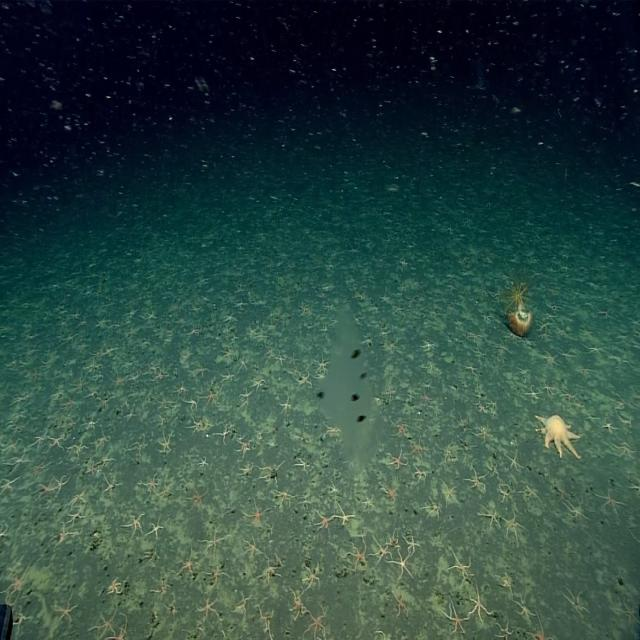brittle-stars: (443, 596, 470, 635), (469, 583, 490, 627), (202, 524, 228, 554), (6, 564, 30, 596), (91, 608, 118, 636), (305, 606, 327, 640), (448, 552, 474, 580), (54, 592, 76, 624), (343, 540, 367, 569), (186, 484, 208, 514), (391, 548, 413, 577), (563, 587, 587, 613), (596, 488, 621, 512), (257, 462, 282, 485), (243, 502, 266, 526), (179, 548, 198, 576), (503, 511, 522, 539), (196, 596, 219, 619), (372, 536, 392, 562), (302, 562, 321, 589), (206, 562, 227, 586), (258, 560, 282, 581), (333, 502, 354, 526), (289, 588, 305, 618), (440, 480, 460, 504), (392, 590, 409, 618), (465, 468, 486, 490), (380, 475, 399, 499), (52, 472, 70, 497), (7, 450, 27, 472), (479, 507, 501, 527), (242, 535, 261, 558), (408, 436, 427, 459), (103, 471, 120, 496), (125, 512, 144, 534), (388, 448, 407, 470), (516, 598, 535, 620), (563, 500, 585, 519), (403, 531, 419, 556), (274, 489, 295, 508), (0, 474, 19, 494), (504, 450, 522, 471), (424, 498, 441, 520), (614, 442, 636, 459), (69, 438, 89, 456), (94, 431, 112, 451), (473, 424, 493, 442), (69, 489, 86, 510), (144, 473, 160, 495), (496, 618, 512, 640), (540, 379, 558, 398), (158, 432, 173, 454), (2, 436, 20, 454), (492, 338, 510, 356), (314, 511, 331, 530), (499, 572, 513, 595), (149, 516, 163, 538), (295, 456, 312, 474), (49, 432, 64, 452), (108, 574, 122, 595), (456, 412, 470, 433), (71, 374, 88, 391), (523, 484, 540, 501), (324, 422, 340, 440), (33, 429, 48, 448), (236, 438, 251, 457), (193, 359, 208, 378), (439, 441, 453, 461), (280, 390, 291, 415), (102, 341, 119, 357), (412, 465, 428, 482), (585, 342, 603, 357), (111, 370, 125, 389), (215, 425, 230, 442), (466, 329, 483, 344), (603, 416, 617, 434), (316, 355, 330, 373), (558, 347, 574, 362), (67, 508, 84, 522), (204, 389, 218, 406), (524, 384, 538, 401), (395, 420, 407, 439), (558, 486, 572, 502), (560, 388, 576, 402), (362, 491, 375, 508), (222, 309, 236, 324), (296, 371, 310, 386), (85, 416, 99, 430), (186, 396, 200, 410), (221, 368, 235, 382), (544, 350, 558, 364), (421, 338, 435, 352), (63, 396, 76, 411), (240, 387, 253, 402), (246, 322, 258, 338), (252, 378, 266, 391), (86, 460, 98, 475), (154, 367, 166, 382), (475, 401, 487, 416), (387, 339, 399, 354), (421, 388, 432, 404), (239, 354, 249, 371), (232, 297, 246, 309), (274, 352, 286, 366), (287, 352, 299, 366), (464, 362, 477, 374), (486, 398, 499, 410), (198, 454, 209, 468), (147, 308, 158, 322), (221, 348, 232, 362), (394, 302, 404, 316), (300, 305, 312, 316), (188, 326, 200, 337), (353, 290, 366, 300), (488, 408, 499, 419), (380, 328, 391, 339), (380, 292, 390, 304), (323, 301, 333, 313)
